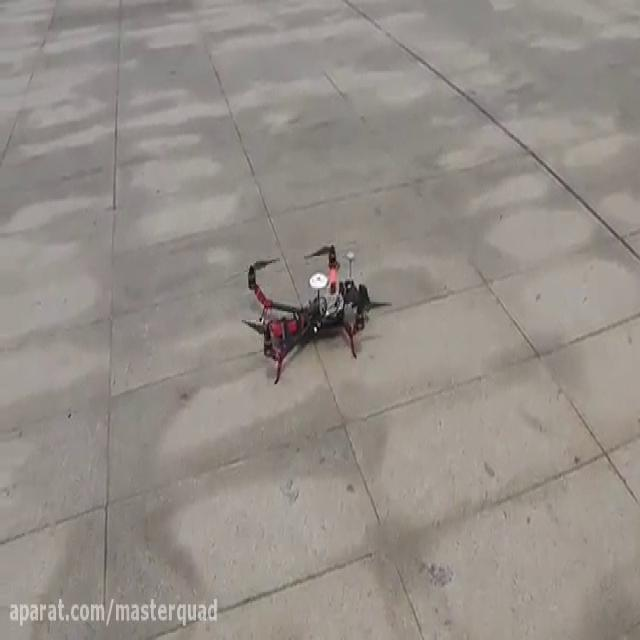drone: (220, 233, 394, 386)
